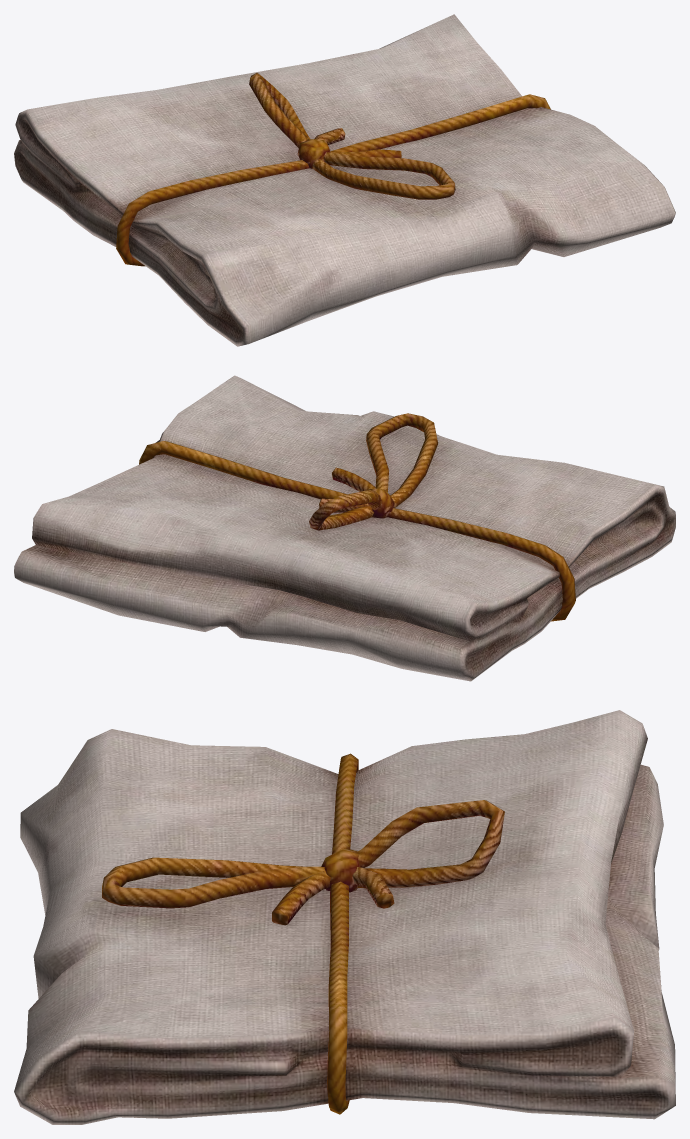
The picture shows the model from 3 angles, top to bottom: view 1: azimuth 30°, elevation 25°; view 2: azimuth 150°, elevation 25°; view 3: azimuth 270°, elevation 25°; orthographic projection. The views are drawn at different scales.
Parts seen in each view (by area): view 1: SM_Folded_Cloth_01_LOD0; view 2: SM_Folded_Cloth_01_LOD0; view 3: SM_Folded_Cloth_01_LOD0.
Part boxes in pixels (<box>): SM_Folded_Cloth_01_LOD0: <box>14,14,675,346</box>; SM_Folded_Cloth_01_LOD0: <box>14,375,675,681</box>; SM_Folded_Cloth_01_LOD0: <box>14,710,675,1124</box>.
Size of the model in its own units: 0.7345 by 0.1926 by 0.6642.
Materials: 1 (1 with a texture image).
